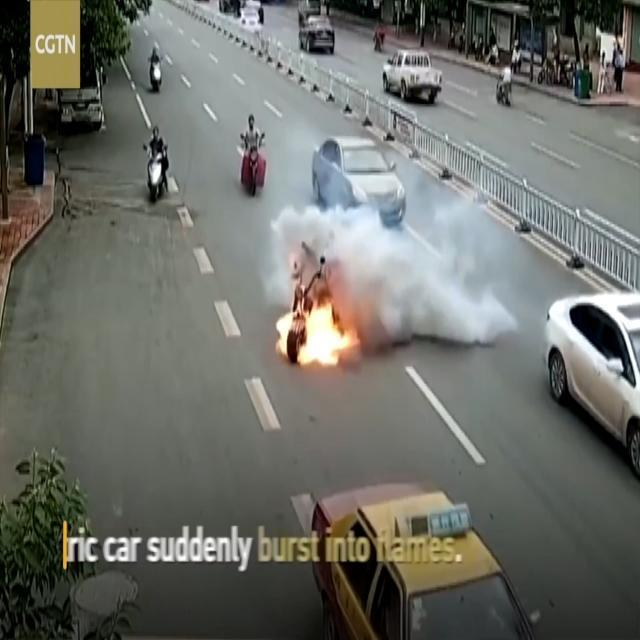fire: (275, 259, 360, 370)
